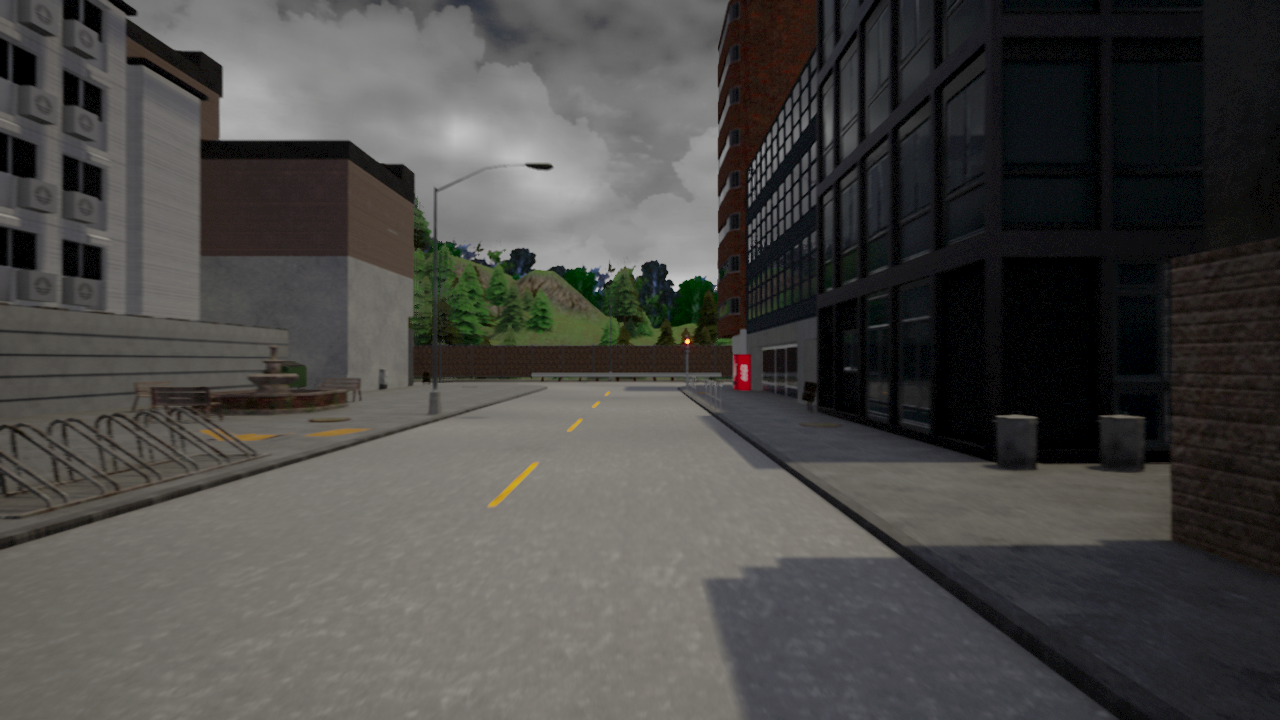red: (684, 337, 691, 354)
